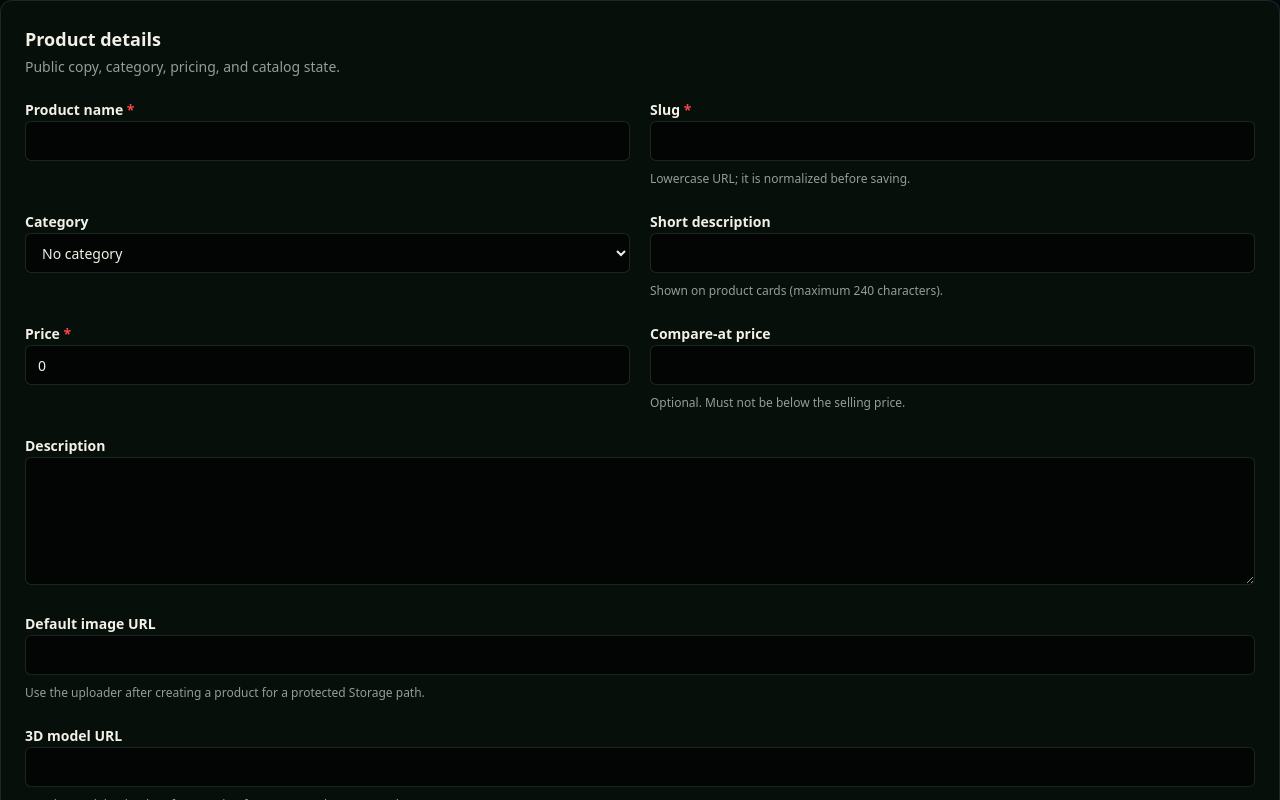
Test: ProductForm › renders a safe server validation summary
In the field labelled "Product name *": [328, 141] box x1=25 y1=121 x2=630 y2=161, type "Velocity Court"
(page scrolled)
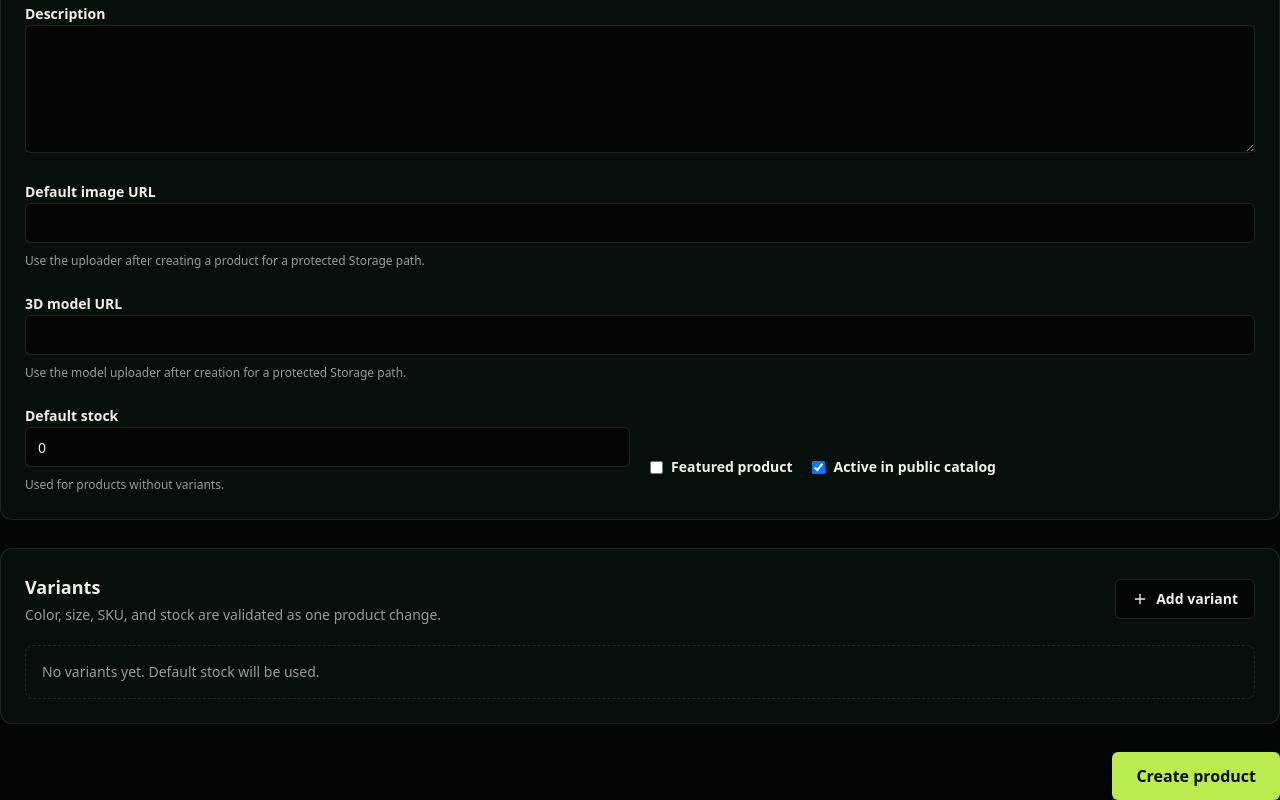
Click the button "Create product": [1196, 776] box x1=1112 y1=752 x2=1279 y2=799
(page scrolled)
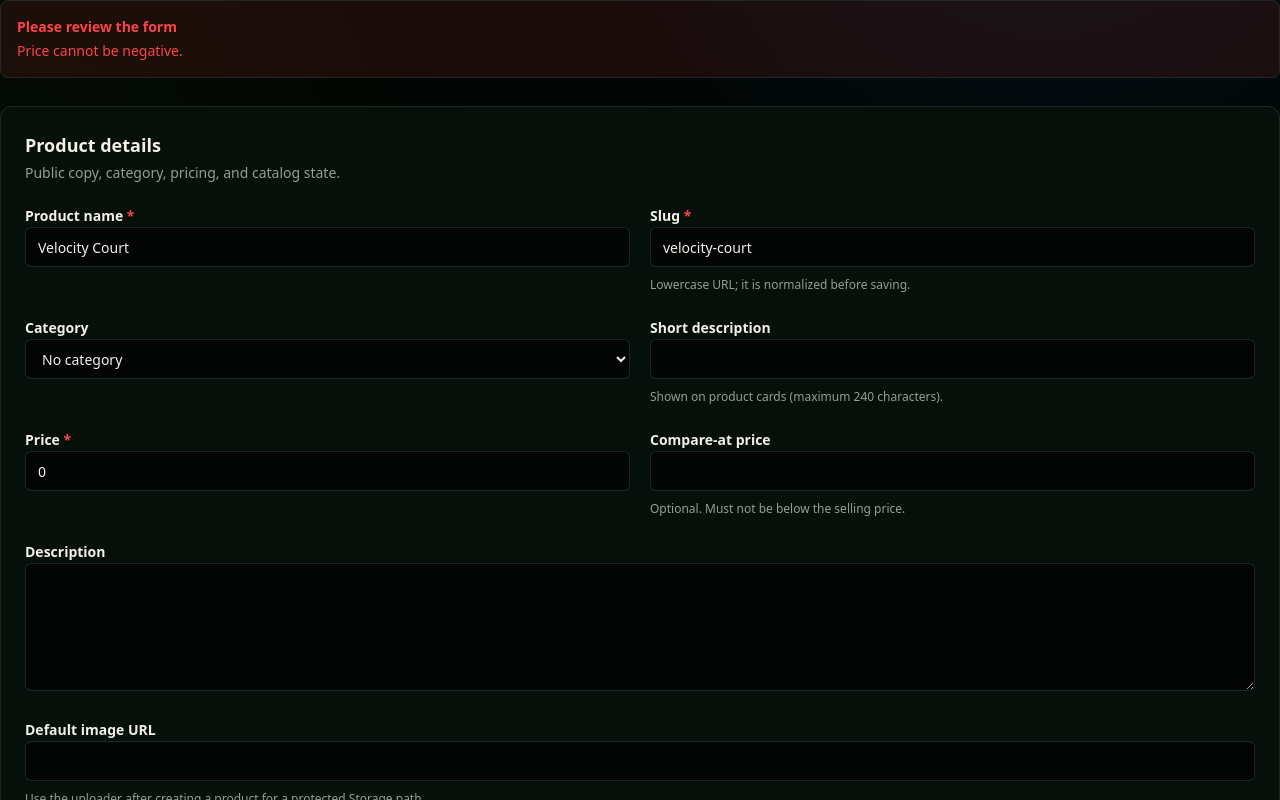
Now the message shows "Price cannot be negative.", box x1=17 y1=41 x2=183 y2=60
